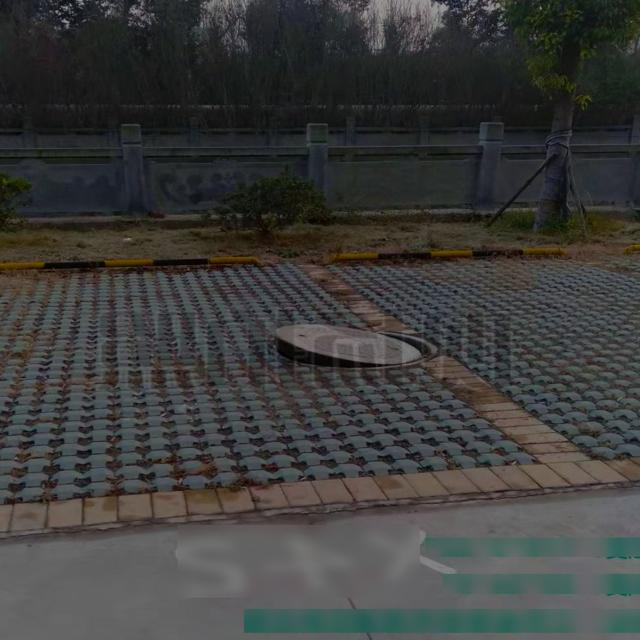uncovered: (263, 323, 440, 372)
